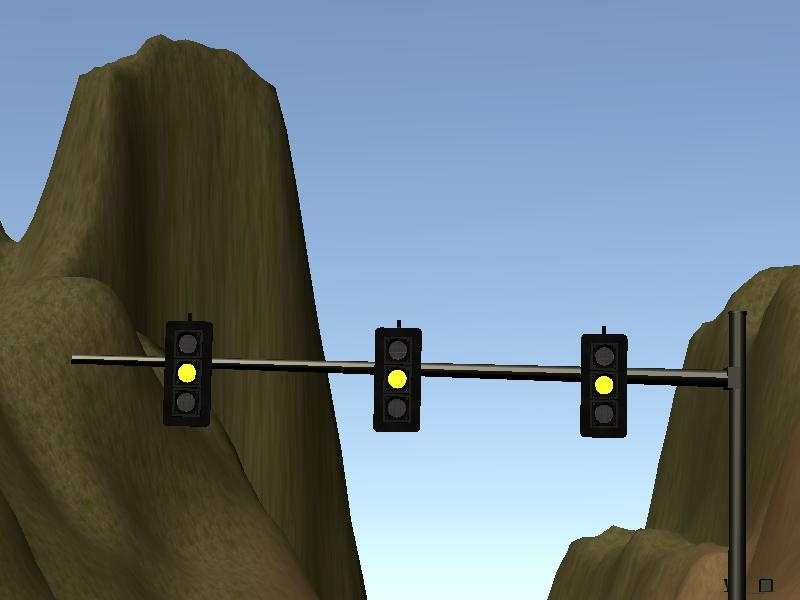yellow: (577, 331, 630, 440), (371, 323, 422, 436), (163, 317, 213, 427)
